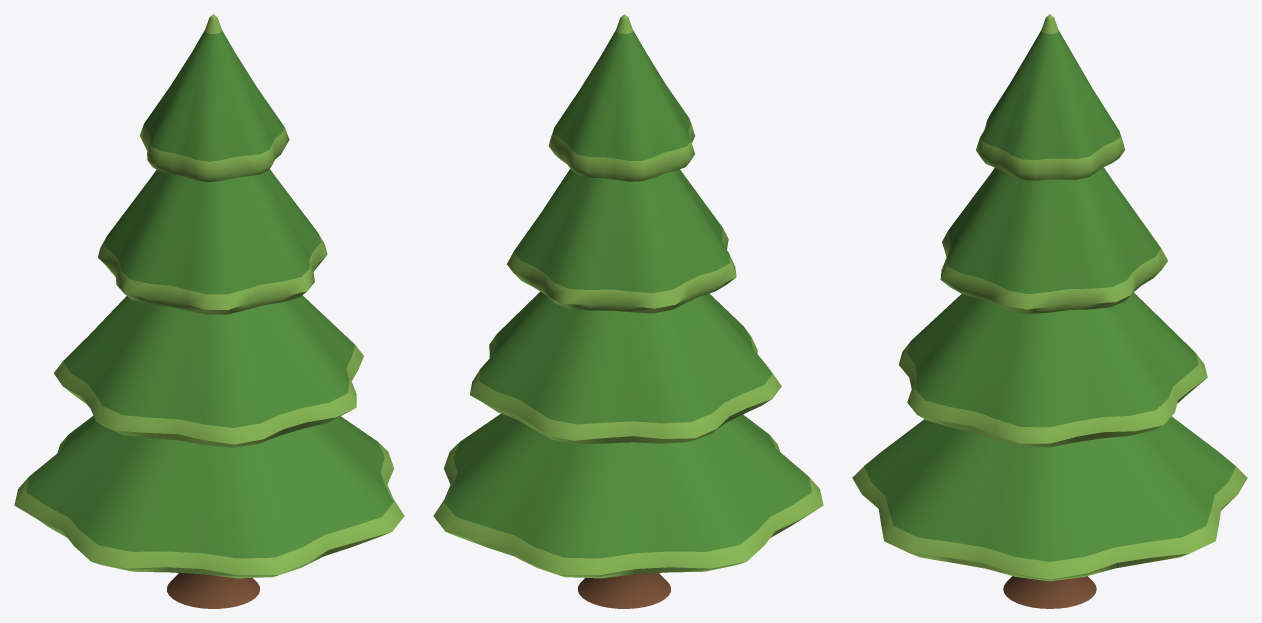
File: PineTree_13.glb
3 views of the same model, side by side, from view 1: azimuth 30°, elevation 25°; view 2: azimuth 150°, elevation 25°; view 3: azimuth 270°, elevation 25° (orthographic).
Parts seen in each view (by area): view 1: PineTree_13; view 2: PineTree_13; view 3: PineTree_13.
Part boxes in pixels (x1=…): PineTree_13: x1=14, y1=14, x2=404, y2=608; PineTree_13: x1=433, y1=14, x2=823, y2=608; PineTree_13: x1=852, y1=14, x2=1247, y2=608.
Size of the model in its own units: 5.01 by 8.21 by 5.11.
